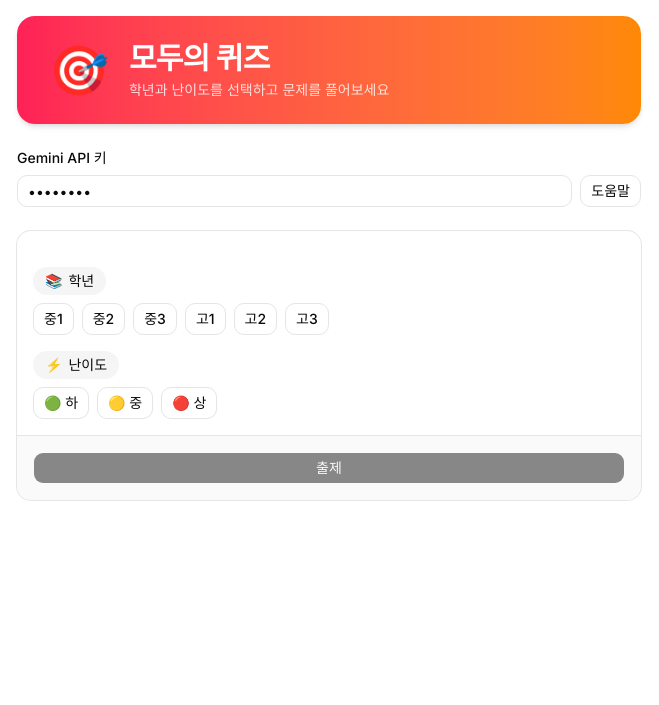
Test: QuizPage › 출제 후 카드 3개 + 학년·난이도 배지 표시됨
Click the radio button labelled "중2": click(103, 319) [82,303,125,335]
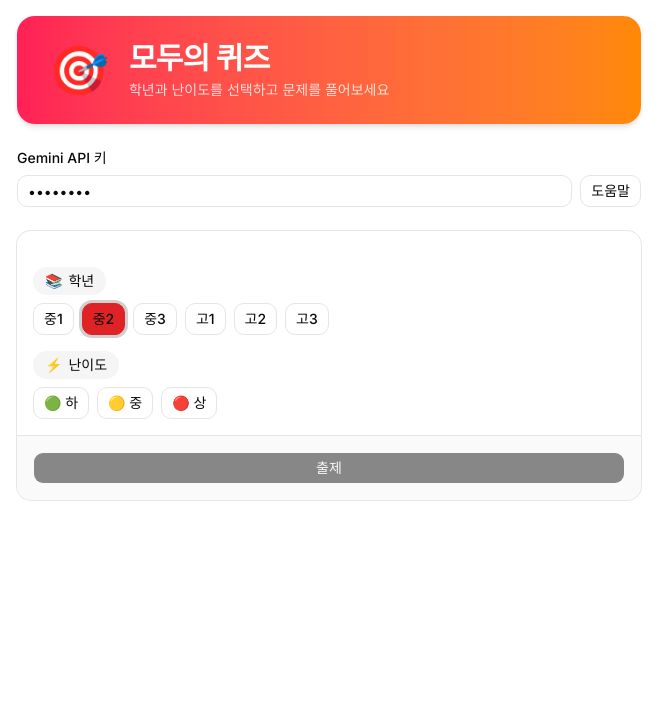
Click the radio button labelled "중": click(125, 403) [97,387,153,419]
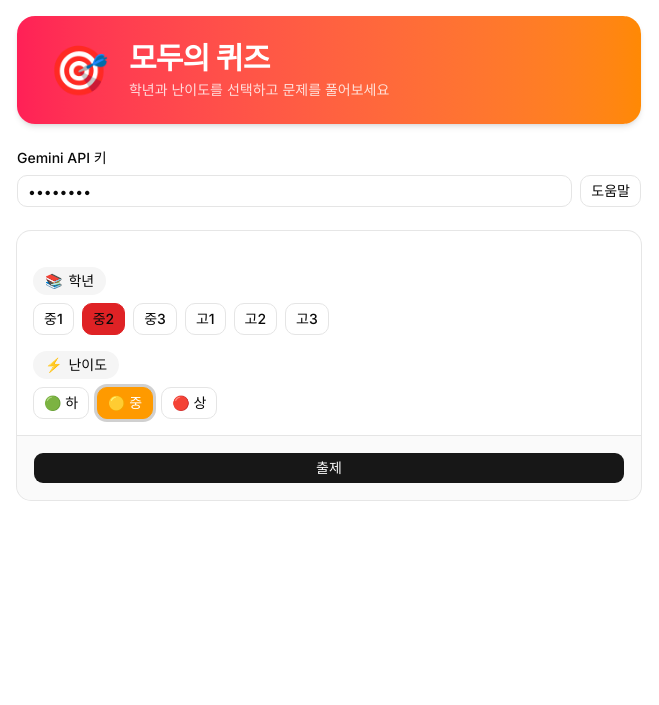
Click the button "출제": click(329, 468) [33,452,625,484]
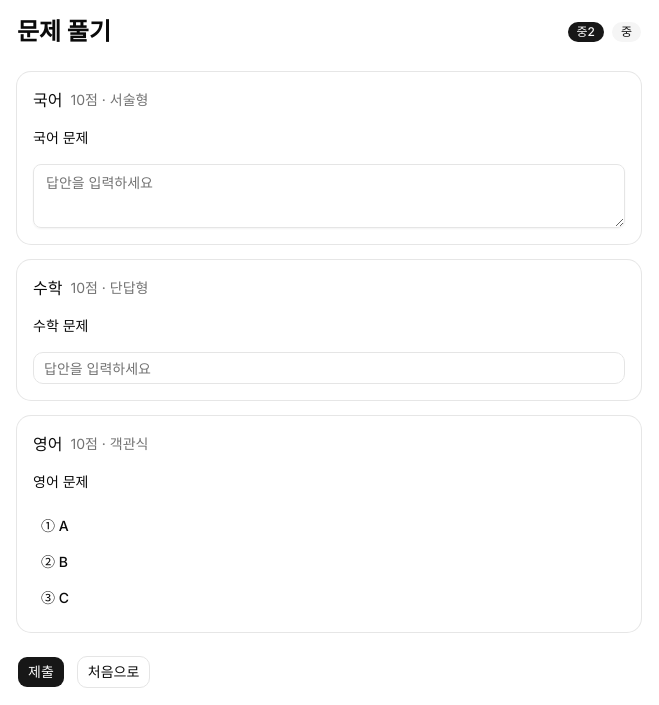
Now the text "국어 문제" is shown, box [33,129,88,146]
Now the text "수학 문제" is shown, box [33,317,88,334]
Now the text "영어 문제" is shown, box [33,473,88,490]
